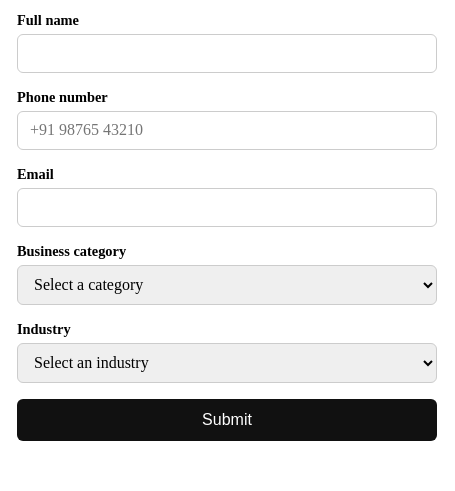
Scenario: LeadForm › shows the rate-limit message verbatim when the API returns a 429
This screenshot has width=455, height=491.
In the field labelled "Full name": [227, 53] box [17,34,437,73], type "Vansh Shah"
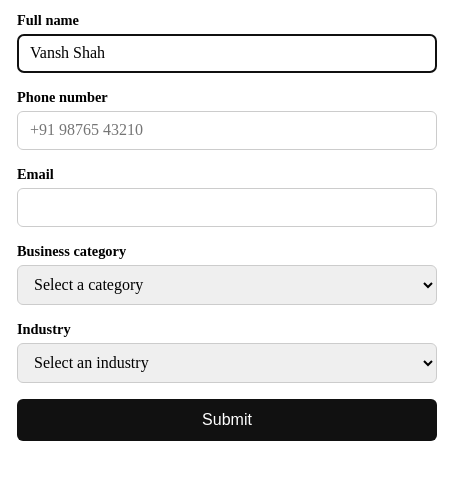
In the field labelled "Phone number": [227, 130] box [17,111,437,150], type "+919876543210"
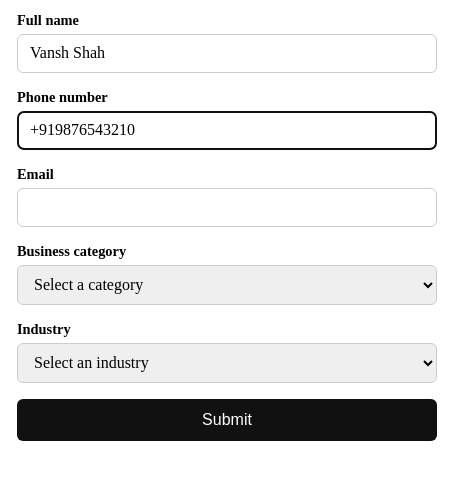
In the field labelled "Email": [227, 207] box [17,188,437,227], type "vansh@example.com"
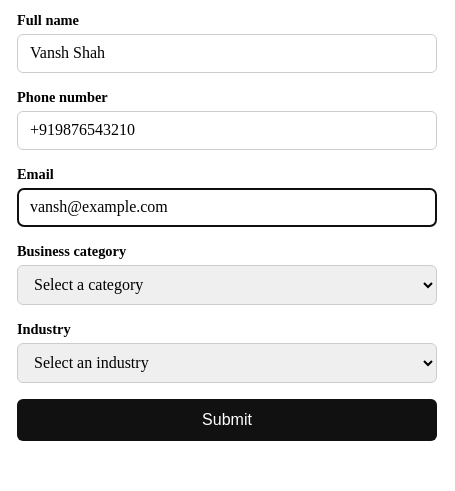
Select "Manufacturing" in the dropdown labelled "Business category": [227, 285] box [17,265,437,305]
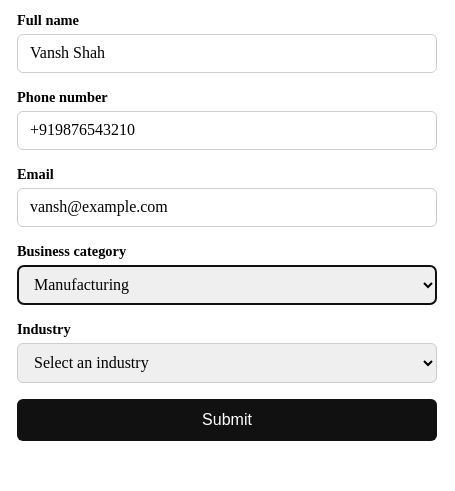
Select "Textiles & Fabrics" in the dropdown labelled "Industry": [227, 363] box [17,343,437,383]
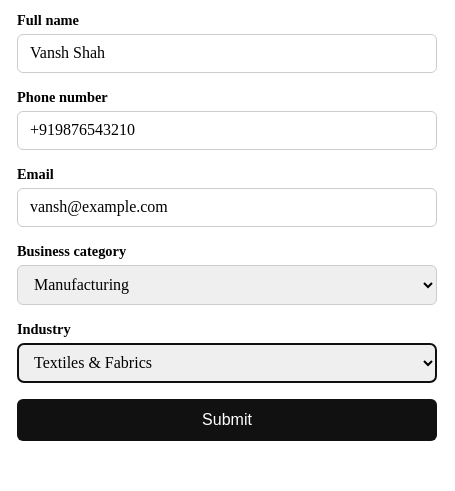
Click the button "Submit": [227, 420] box [17,399,437,441]
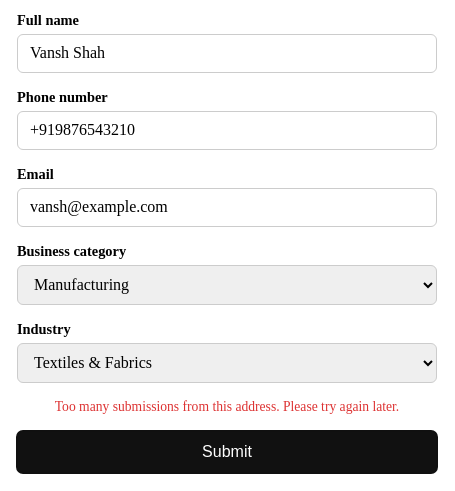
Check: the text "Too many submissions from this address. Please try again later." is shown, box [55,399,399,414]
